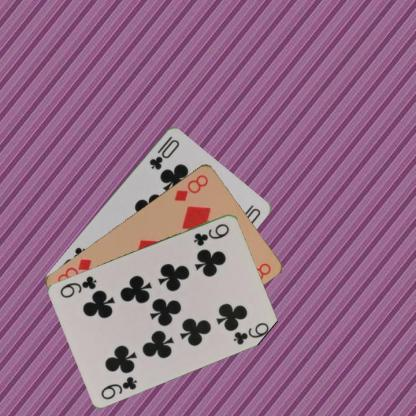10c: (146, 133, 181, 171)
8d: (171, 172, 210, 202)
9c: (98, 373, 139, 401), (191, 221, 231, 247)
